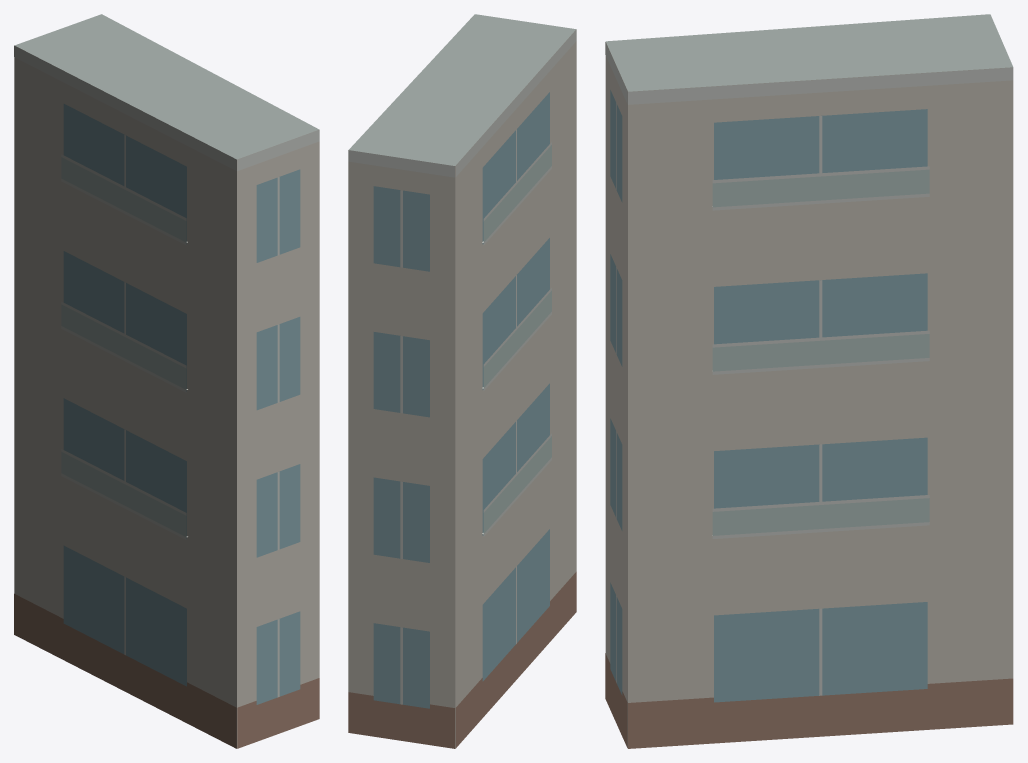
Rendered from survey-upis-32469523.glb.
The picture shows the model from 3 angles, left to right: view 1: azimuth 30°, elevation 25°; view 2: azimuth 150°, elevation 25°; view 3: azimuth 270°, elevation 25°; orthographic projection. The views are drawn at different scales.
Visible parts, largest first — view 1: survey-upis-32469523.tmp; view 2: survey-upis-32469523.tmp; view 3: survey-upis-32469523.tmp.
Boxes of the visible parts, bbox=[...] form: survey-upis-32469523.tmp: bbox=[14, 14, 319, 748]; survey-upis-32469523.tmp: bbox=[348, 14, 576, 748]; survey-upis-32469523.tmp: bbox=[605, 14, 1013, 748].
Size of the model in its own units: 3.1 by 12.2 by 6.88.
